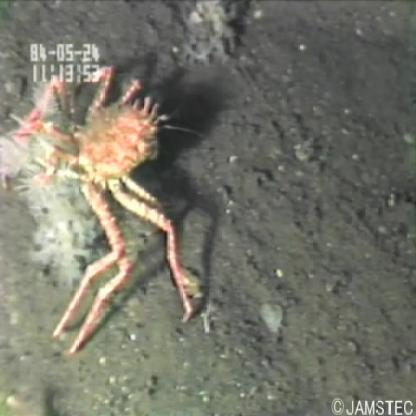Bio: (1, 58, 200, 358)
